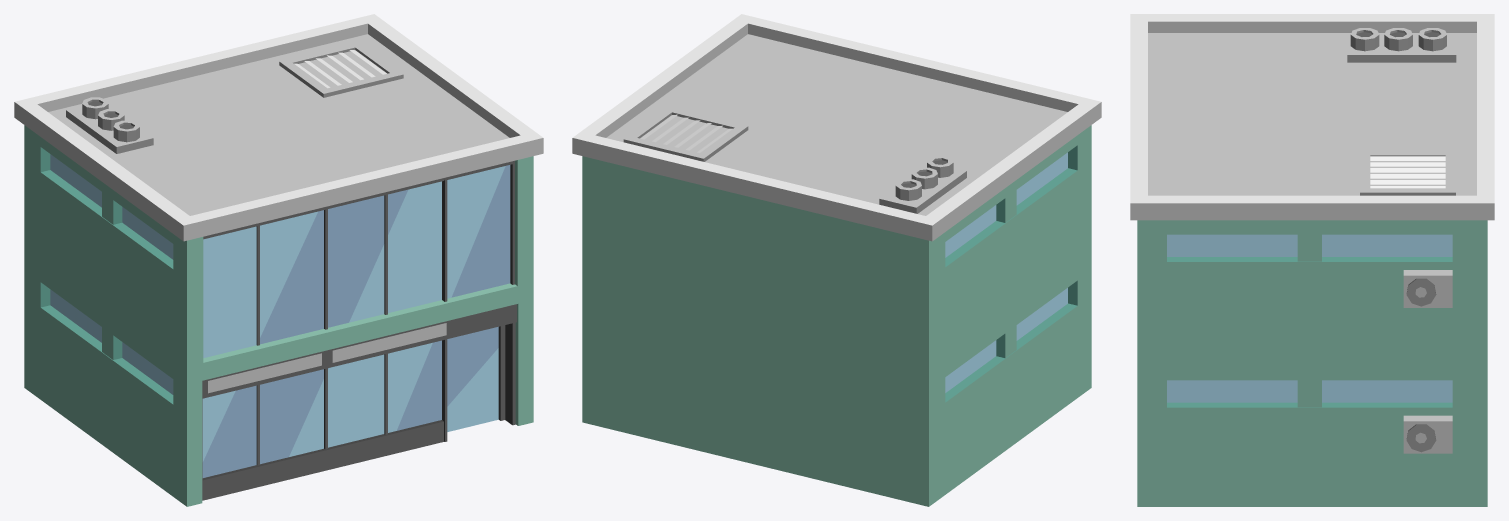
Rendered from supermarket_008.fbx.
3 views of the same model, side by side, from view 1: azimuth 30°, elevation 25°; view 2: azimuth 150°, elevation 25°; view 3: azimuth 270°, elevation 25° (orthographic). The views are drawn at different scales.
Parts seen in each view (by area): view 1: supermarket_008; view 2: supermarket_008; view 3: supermarket_008.
Boxes of the visible parts, box(x1,y1,x2,y2) form: supermarket_008: box(14, 14, 543, 506); supermarket_008: box(572, 14, 1101, 506); supermarket_008: box(1130, 14, 1494, 506).
Bounding box in the file's own units: 752 × 575 × 603.
